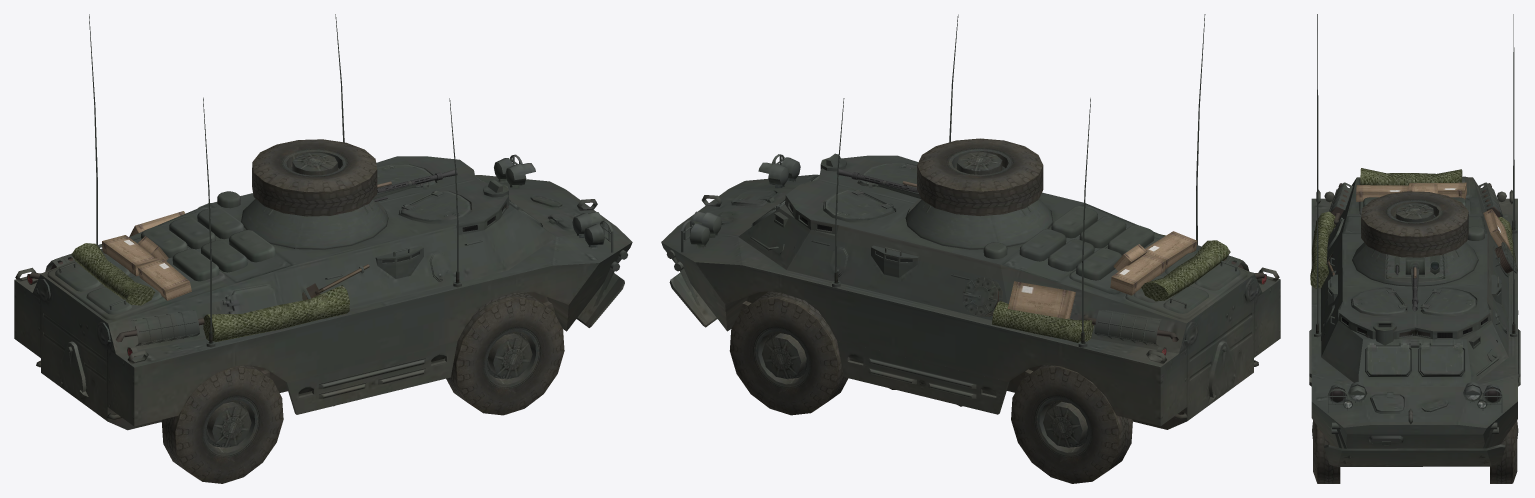
The model's file is brdm-2.glb.
3 renders of one model, left to right at view 1: azimuth 30°, elevation 25°; view 2: azimuth 150°, elevation 25°; view 3: azimuth 270°, elevation 25°, orthographic. The views are drawn at different scales.
Visible parts, largest first — view 1: hull, hullb, tire09, tire08, tire12, turret, gear100, gear561, gear563, wheel3, wheel, hatch3 (+4 smaller); view 2: hull, hullb, tire11, tire10, tire12, turret, gear222, gear561, gear563, wheel4, wheel2, hatch (+4 smaller); view 3: hull, tire12, hullb, turret, hatch4, hatch2, gear561, gear563, gear100, hatch3, hatch, command antenna (+10 smaller).
Part boxes in pixels (x1=…): hull: x1=14, y1=154, x2=632, y2=430; hullb: x1=15, y1=159, x2=518, y2=419; tire09: x1=446, y1=292, x2=564, y2=415; tire08: x1=161, y1=365, x2=283, y2=483; tire12: x1=252, y1=139, x2=377, y2=216; turret: x1=241, y1=199, x2=388, y2=249; gear100: x1=203, y1=285, x2=349, y2=341; gear561: x1=102, y1=235, x2=191, y2=300; gear563: x1=71, y1=243, x2=154, y2=305; wheel3: x1=206, y1=400, x2=255, y2=452; wheel: x1=487, y1=331, x2=535, y2=384; hatch3: x1=401, y1=190, x2=470, y2=221; hull: x1=661, y1=154, x2=1280, y2=429; hullb: x1=772, y1=153, x2=1279, y2=419; tire11: x1=729, y1=291, x2=848, y2=415; tire10: x1=1011, y1=365, x2=1132, y2=483; tire12: x1=917, y1=138, x2=1043, y2=216; turret: x1=905, y1=199, x2=1053, y2=249; gear222: x1=992, y1=281, x2=1094, y2=342; gear561: x1=1110, y1=231, x2=1197, y2=295; gear563: x1=1141, y1=240, x2=1230, y2=301; wheel4: x1=1039, y1=400, x2=1088, y2=452; wheel2: x1=758, y1=331, x2=807, y2=384; hatch: x1=825, y1=189, x2=894, y2=220; hull: x1=1311, y1=176, x2=1517, y2=466; tire12: x1=1361, y1=191, x2=1468, y2=257; hullb: x1=1309, y1=182, x2=1520, y2=386; turret: x1=1352, y1=242, x2=1478, y2=286; hatch4: x1=1366, y1=343, x2=1410, y2=375; hatch2: x1=1420, y1=343, x2=1463, y2=375; gear561: x1=1356, y1=182, x2=1466, y2=201; gear563: x1=1360, y1=168, x2=1462, y2=185; gear100: x1=1310, y1=211, x2=1335, y2=288; hatch3: x1=1352, y1=287, x2=1407, y2=314; hatch: x1=1420, y1=287, x2=1475, y2=314; command antenna: x1=1314, y1=14, x2=1517, y2=337.
Bounding box in the file's own units: 5.75 × 4.08 × 2.33.
Materials: 10 (8 with a texture image).
